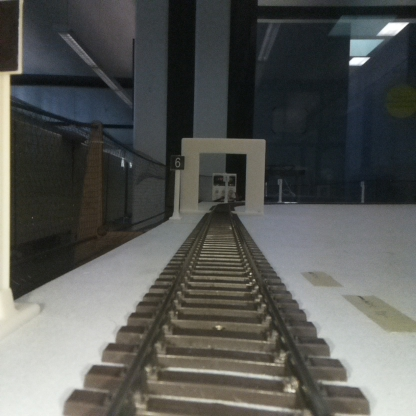black-info-6: (170, 155, 184, 217)
